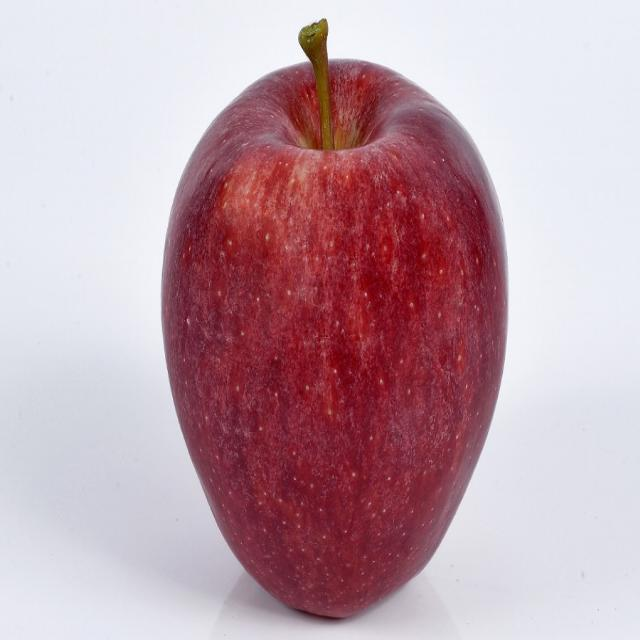Apple: (156, 6, 512, 628)
